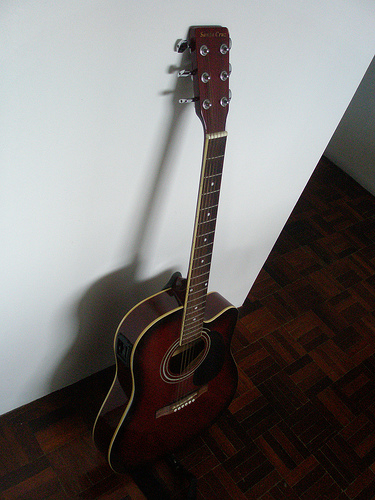guitar: (89, 25, 242, 476)
